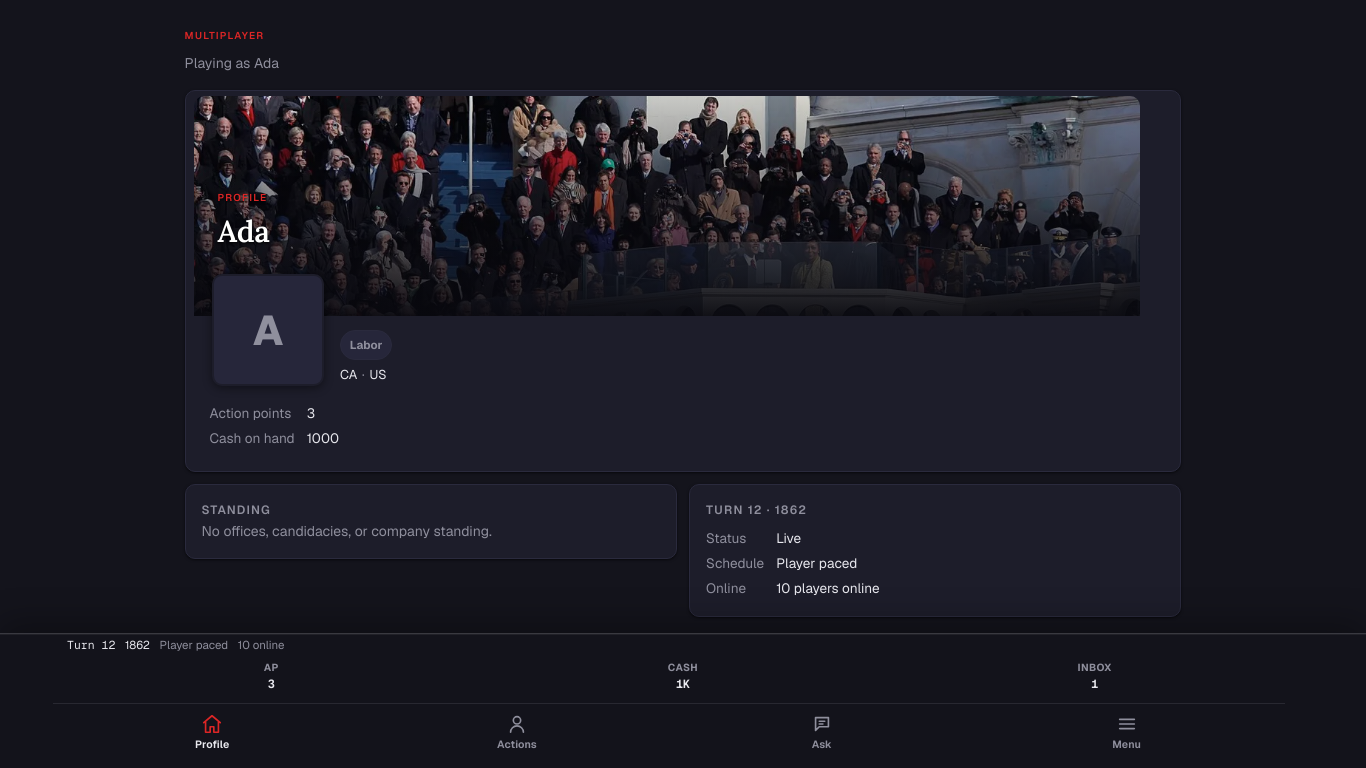
Scenario: MpModeScreen presence freshness › refreshes presence on manual Refresh without touching the core reads
Expected: the heading "Ada" is shown, x1=218 y1=212 x2=270 y2=250
Expected: the text "10 players online" is shown, x1=776 y1=579 x2=880 y2=597
Step 1. Click the button "Menu" → {"x": 1127, "y": 734}, box x1=974 y1=706 x2=1279 y2=762
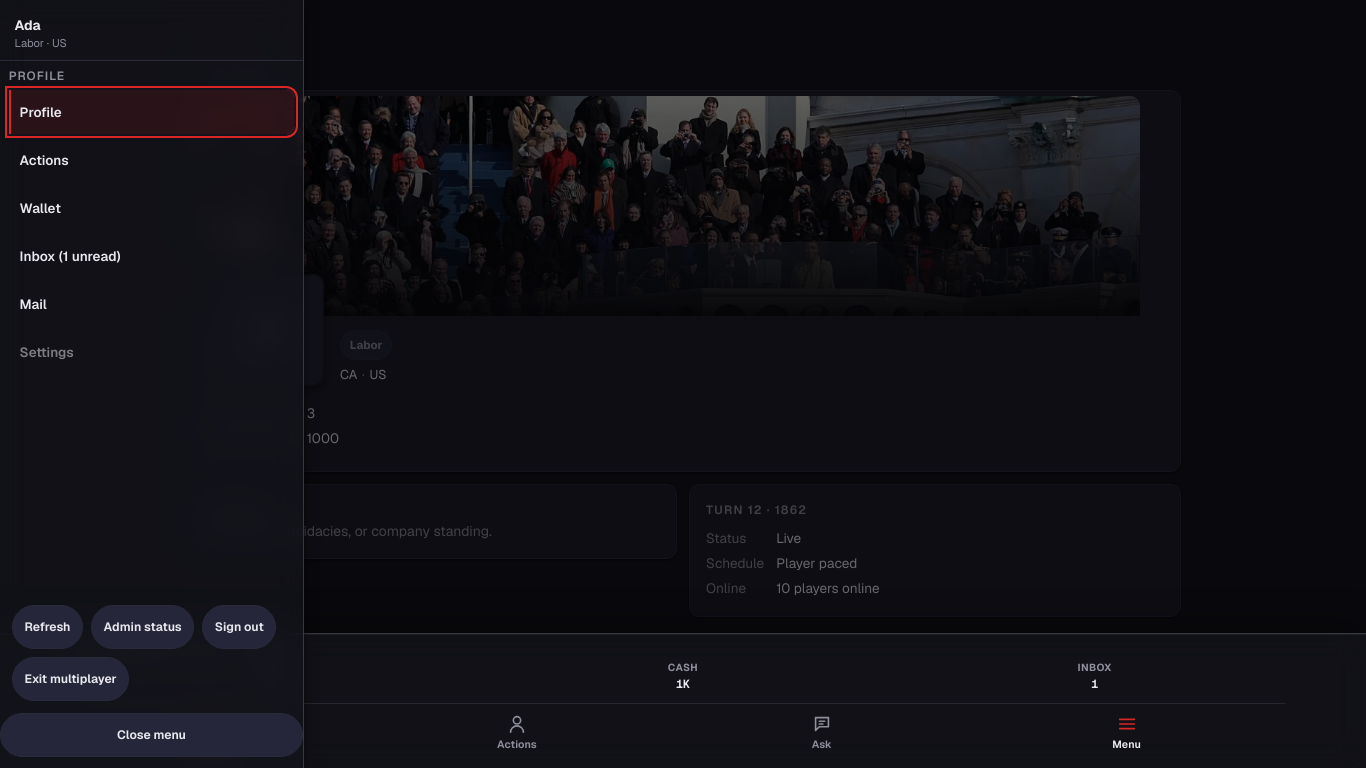
Step 2. Click the button "Refresh" → {"x": 48, "y": 627}, box x1=12 y1=605 x2=83 y2=649
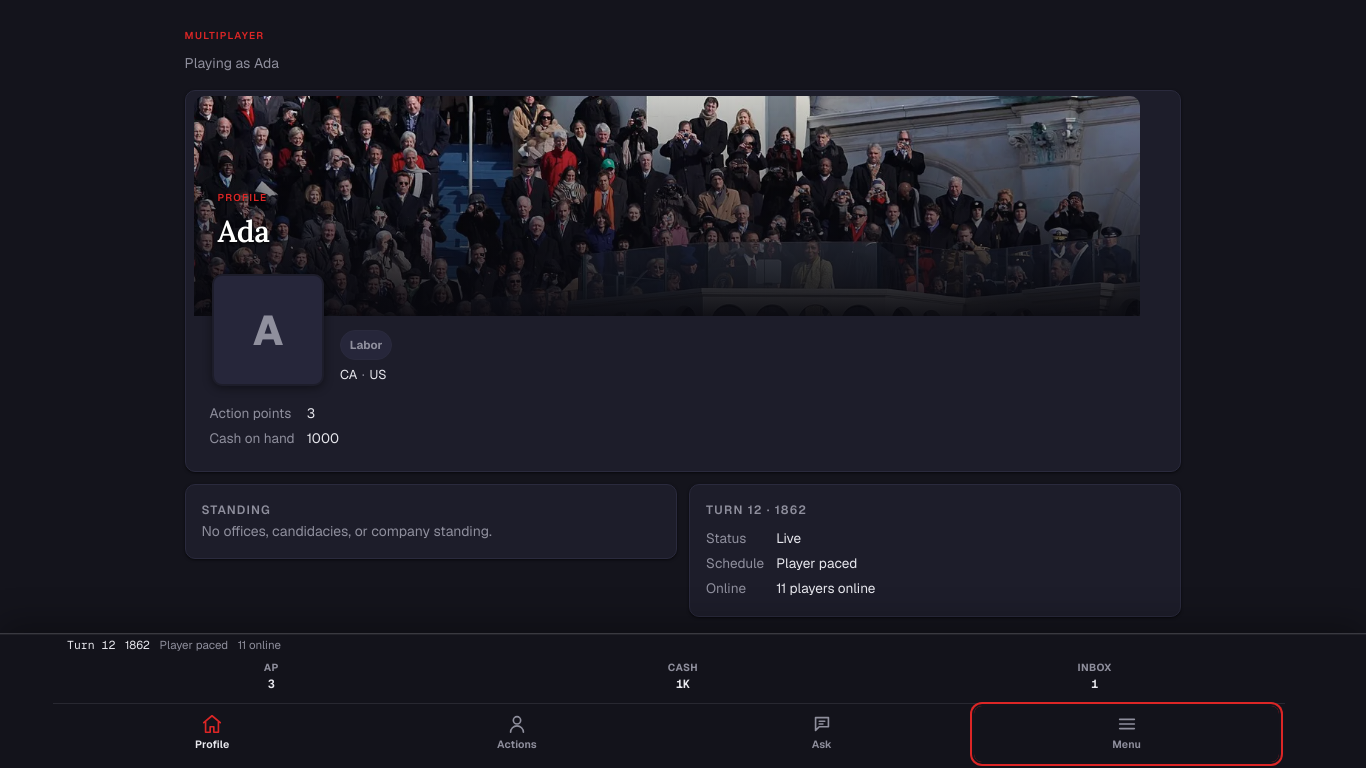
Result: the text "11 players online" is shown at x1=776 y1=579 x2=876 y2=597
